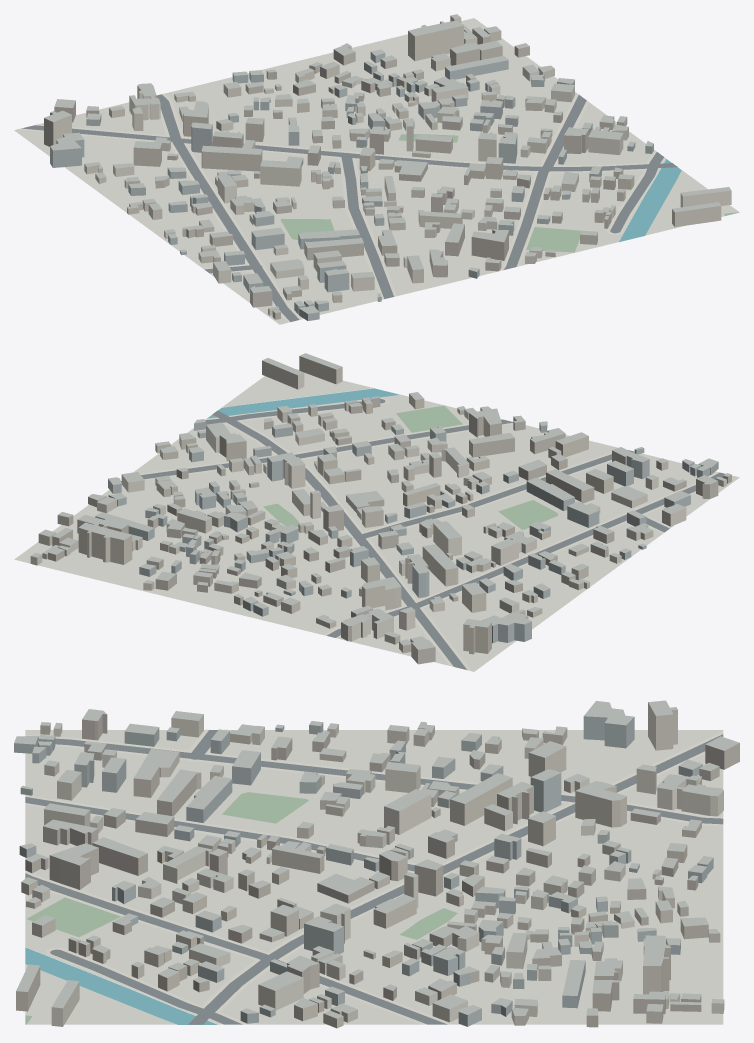
The picture shows the model from 3 angles, top to bottom: view 1: azimuth 30°, elevation 25°; view 2: azimuth 150°, elevation 25°; view 3: azimuth 270°, elevation 25°; orthographic projection. The views are drawn at different scales.
Parts seen in each view (by area): view 1: city; view 2: city; view 3: city.
Boxes of the visible parts, <box> form: city: <box>14,14,739,324</box>; city: <box>14,353,739,671</box>; city: <box>14,700,739,1028</box>.
Size of the model in its own units: 517 by 27.58 by 520.
